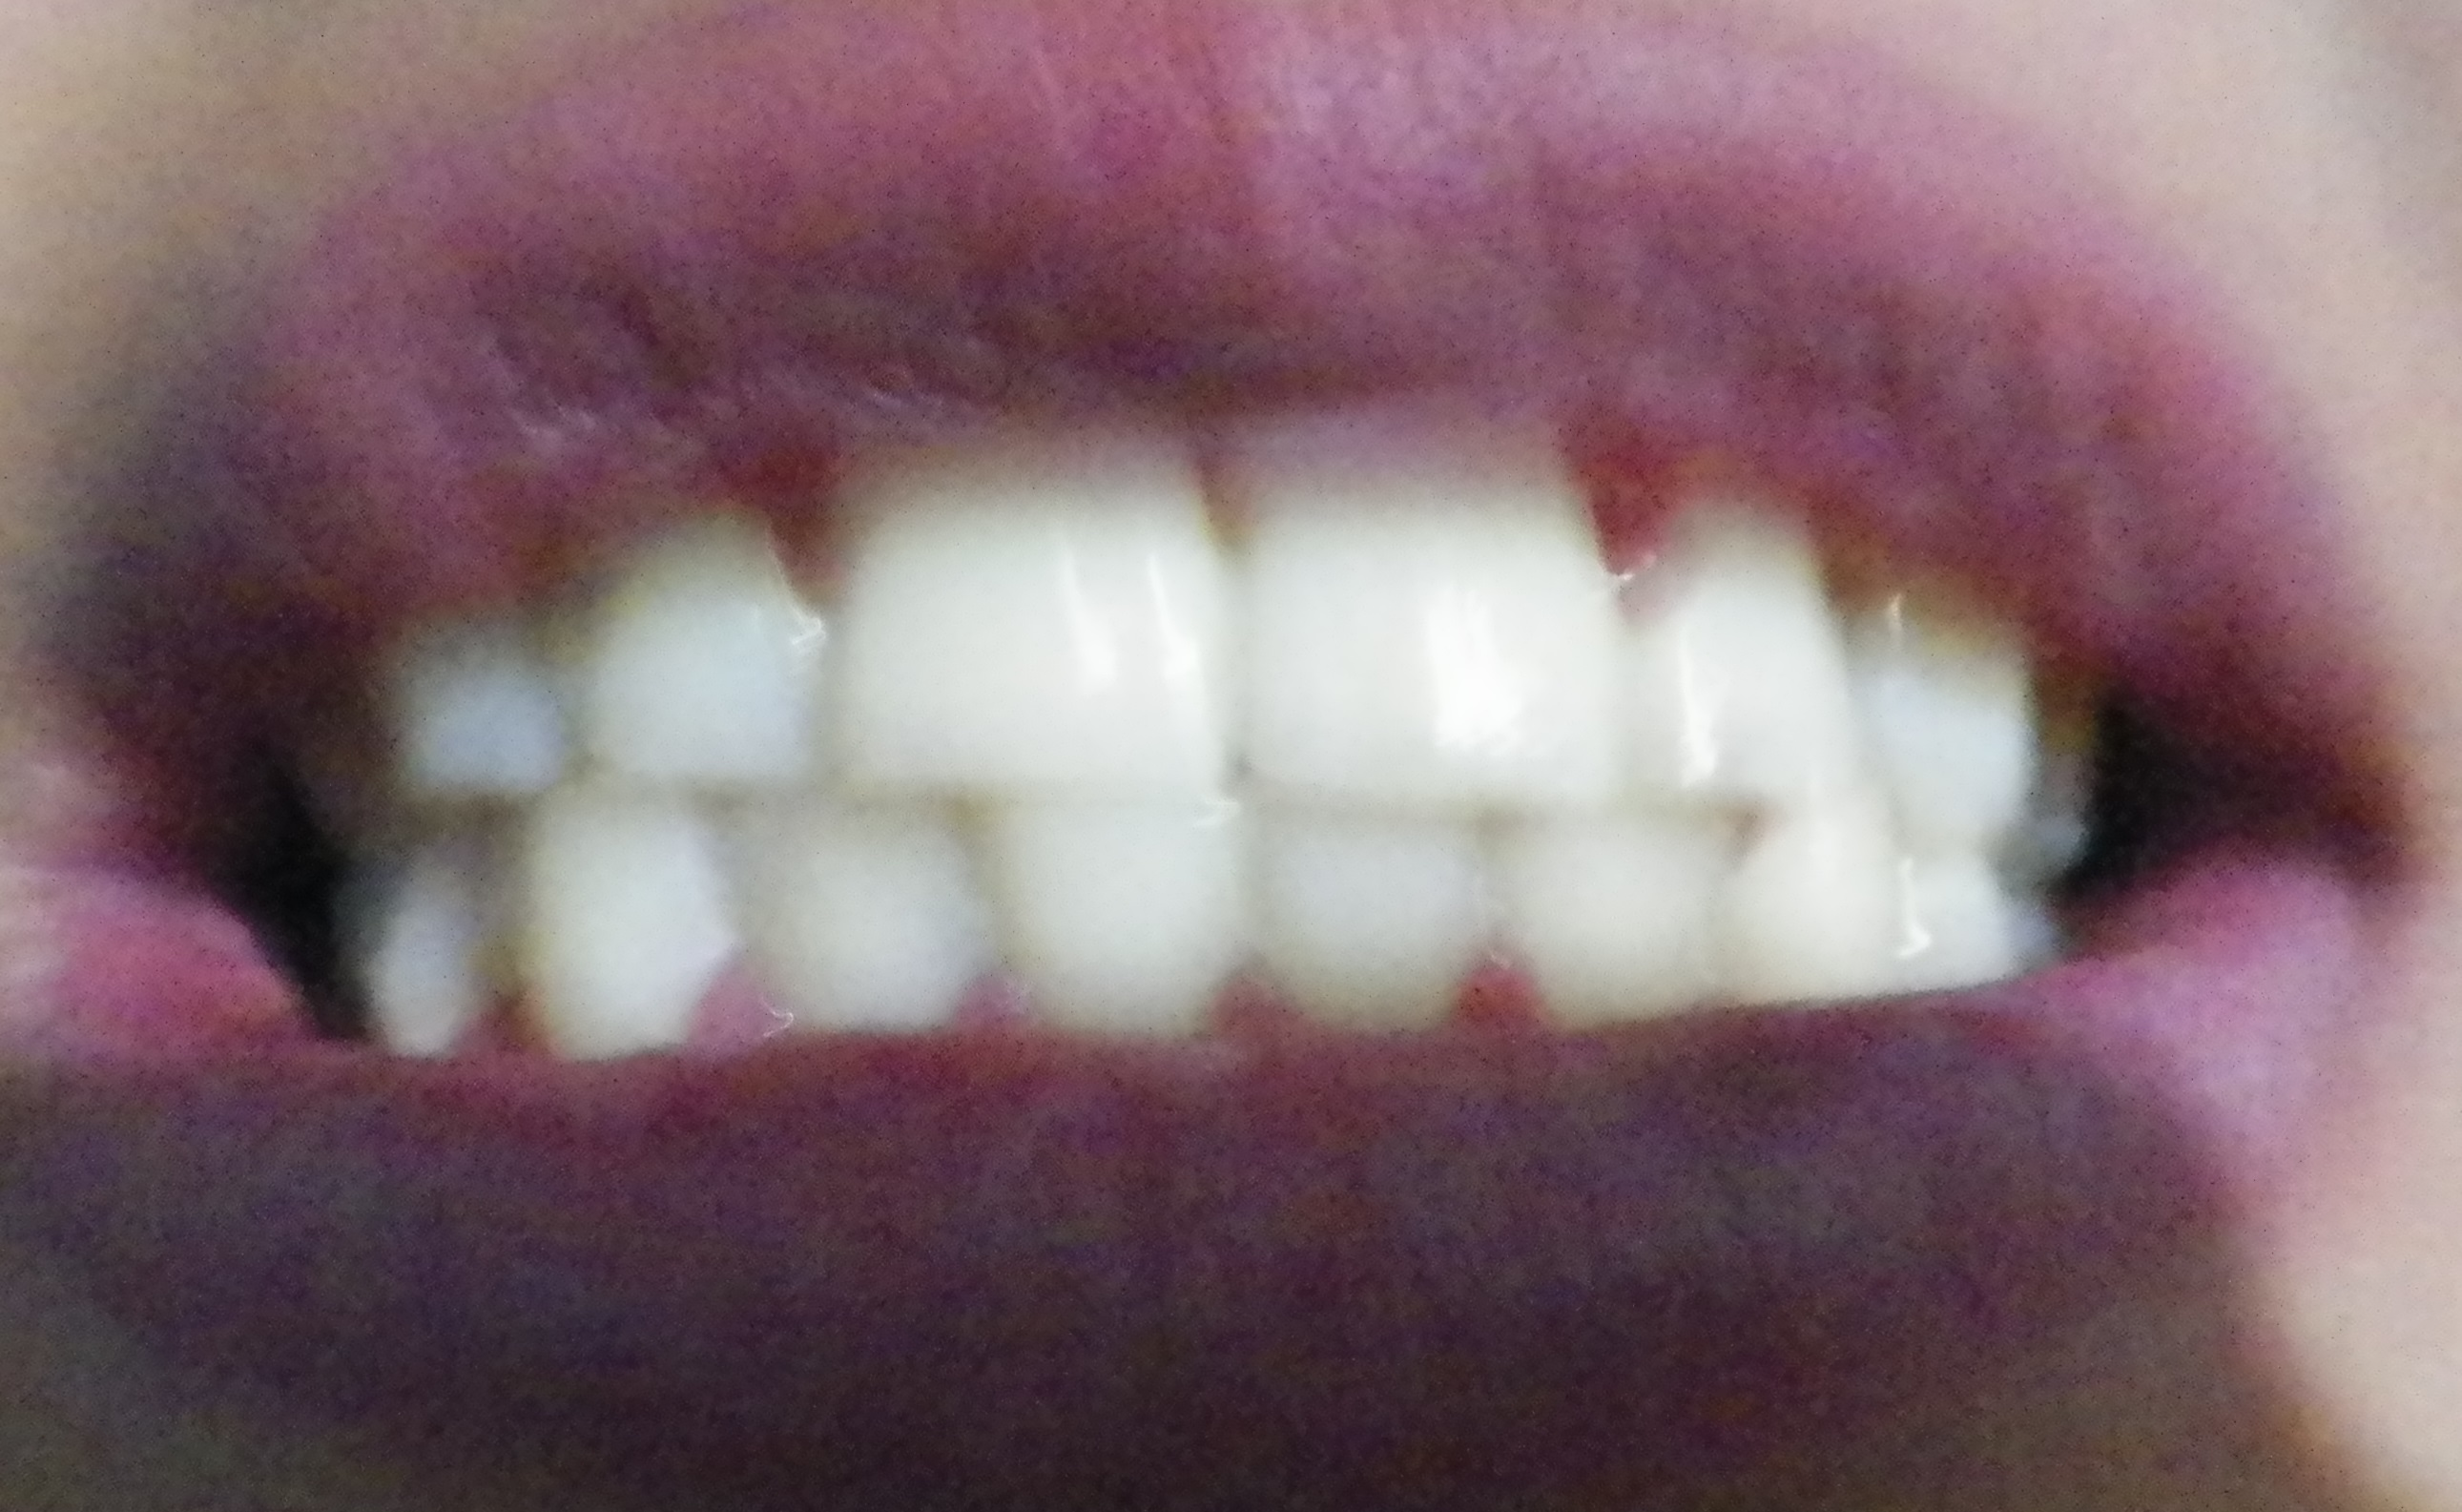boca: (280, 445, 2086, 1118)
